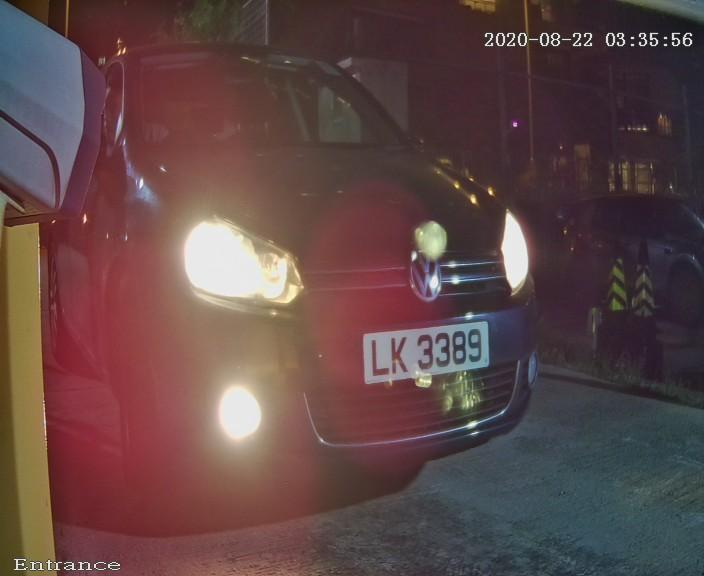Car: (29, 34, 610, 517)
License Plate: (341, 314, 515, 405)
